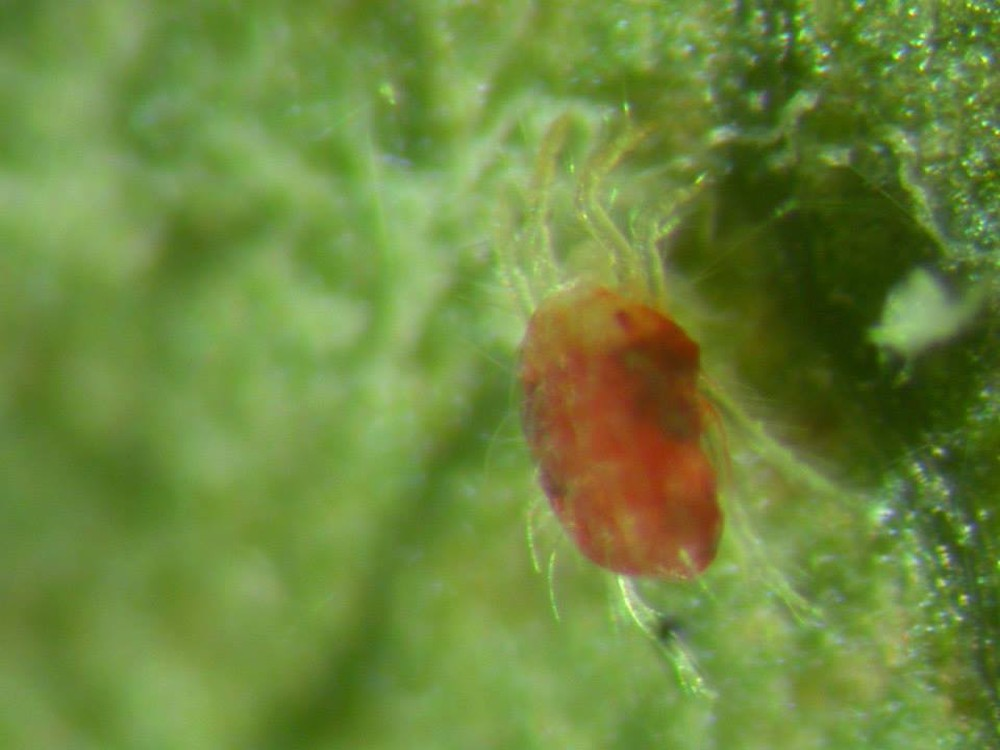Aracnido Rojo: (432, 119, 893, 690)
